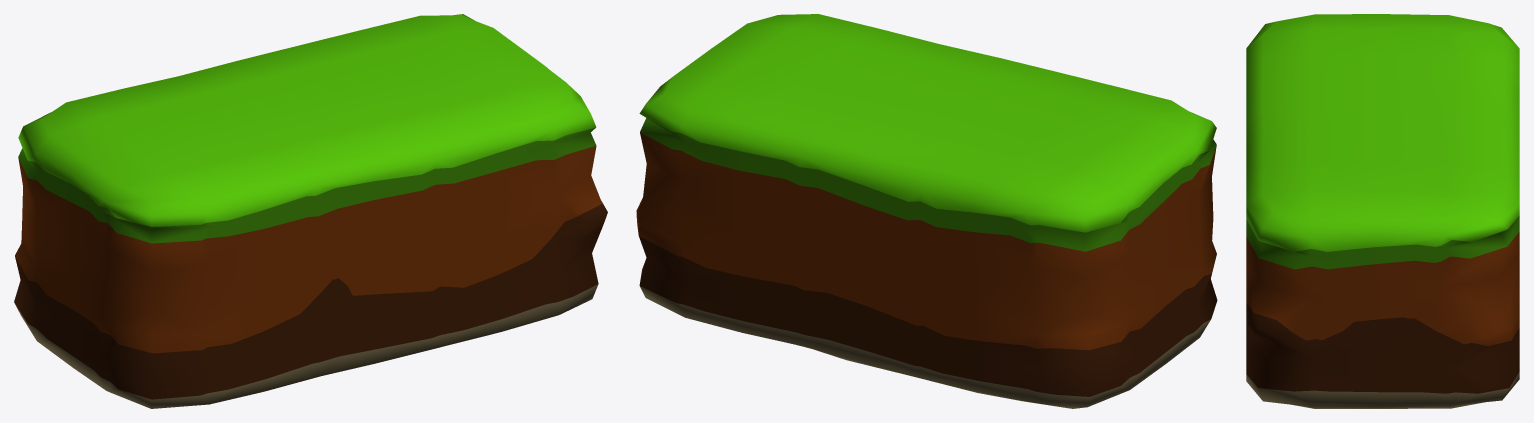
File: hill1_smooth.glb
3 views of the same model, side by side, from view 1: azimuth 30°, elevation 25°; view 2: azimuth 150°, elevation 25°; view 3: azimuth 270°, elevation 25° (orthographic). The views are drawn at different scales.
Parts seen in each view (by area): view 1: Hill; view 2: Hill; view 3: Hill.
Part boxes in pixels (box(x1,y1,x2,y2)): Hill: box(14, 14, 607, 408); Hill: box(636, 14, 1217, 408); Hill: box(1246, 14, 1519, 408).
Size of the model in its own units: 8 by 3.5 by 4.32.
Materials: 1 (1 with a texture image).
